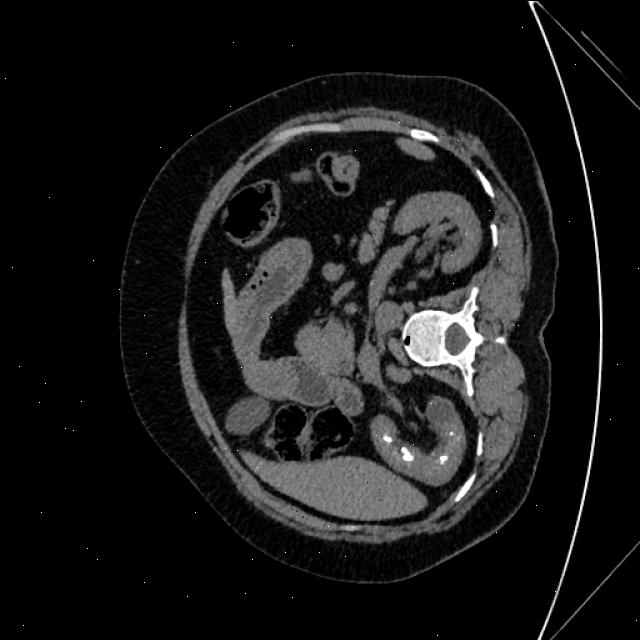kidneystone: (382, 427, 404, 456)
